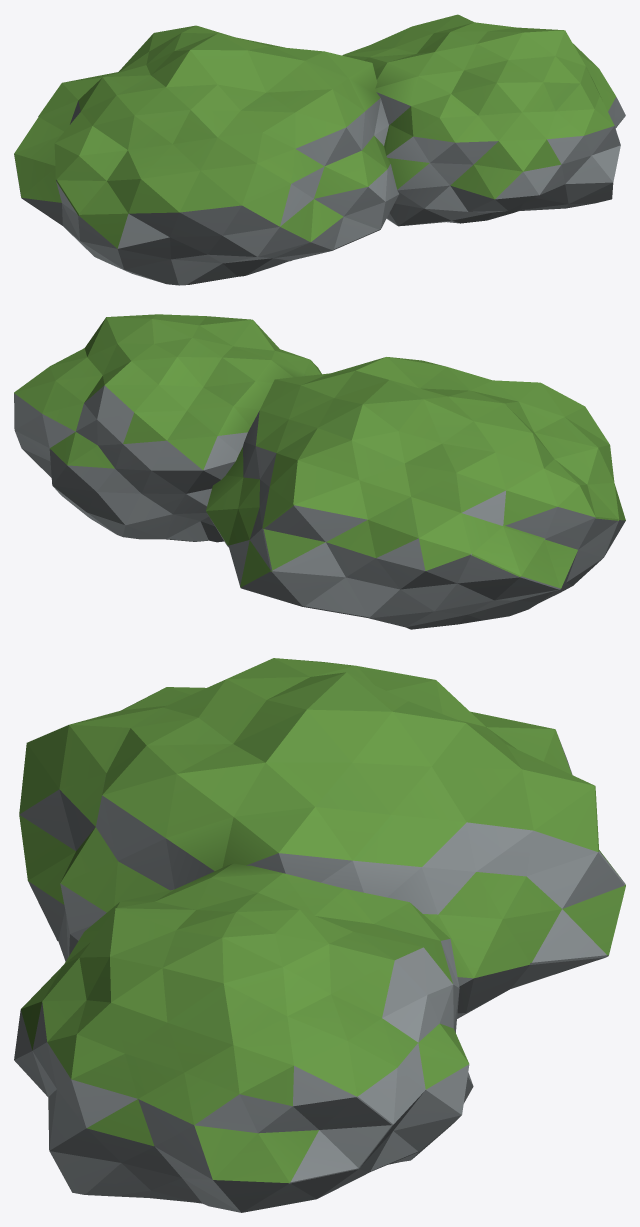
The model's file is rock_mossy_b.glb.
3 views of the same model, one above another, from view 1: azimuth 30°, elevation 25°; view 2: azimuth 150°, elevation 25°; view 3: azimuth 270°, elevation 25° (orthographic). The views are drawn at different scales.
Bounding box in the file's own units: 3.17 × 0.9359 × 1.97.
